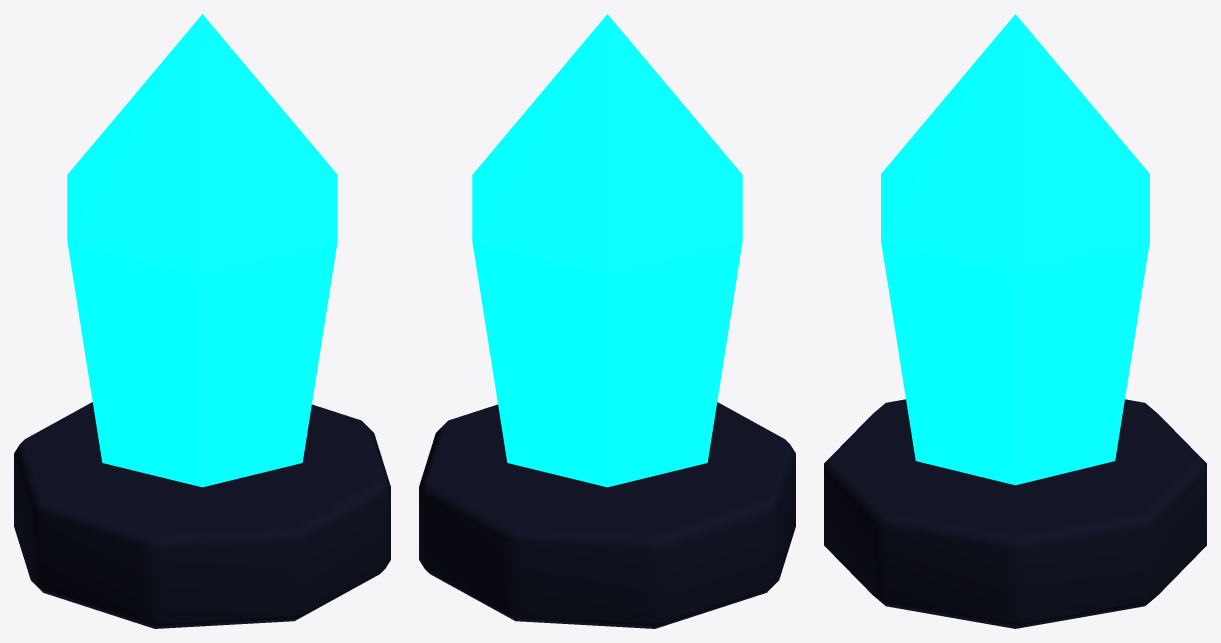
File: NT_EnergyCrystal.fbx
The picture shows the model from 3 angles, left to right: view 1: azimuth 30°, elevation 25°; view 2: azimuth 150°, elevation 25°; view 3: azimuth 270°, elevation 25°; orthographic projection.
Visible parts, largest first — view 1: NT_EnergyCrystal__PickupMesh; view 2: NT_EnergyCrystal__PickupMesh; view 3: NT_EnergyCrystal__PickupMesh.
Boxes of the visible parts, x1,y1,x2,y2 form: NT_EnergyCrystal__PickupMesh: [14, 14, 390, 628]; NT_EnergyCrystal__PickupMesh: [419, 14, 795, 628]; NT_EnergyCrystal__PickupMesh: [824, 14, 1206, 628].
Bounding box in the file's own units: 0.6647 × 1.03 × 0.6647.
